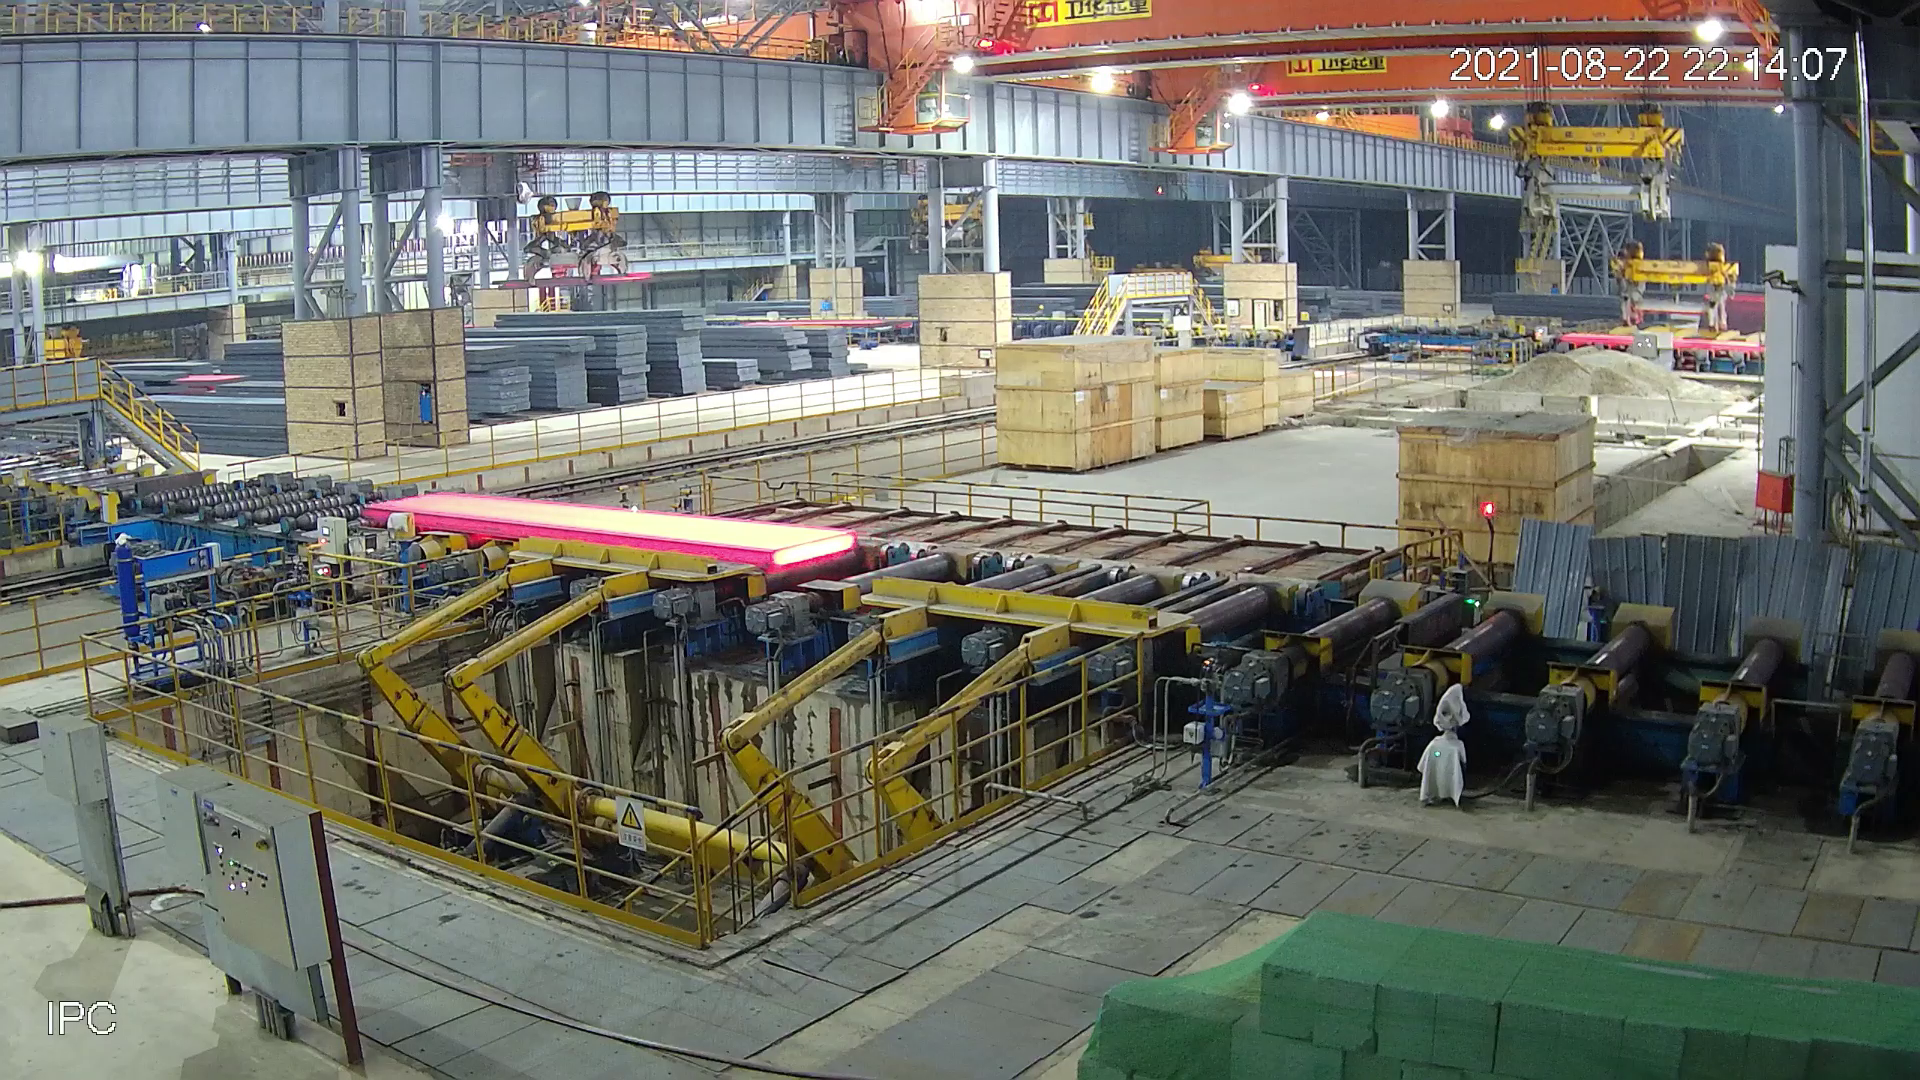slab: (363, 491, 858, 566)
